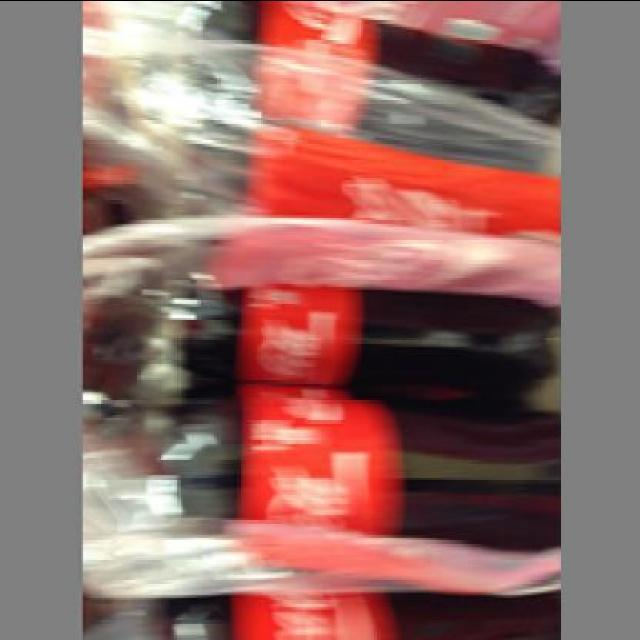Coke: (86, 388, 557, 590), (83, 217, 551, 406)
